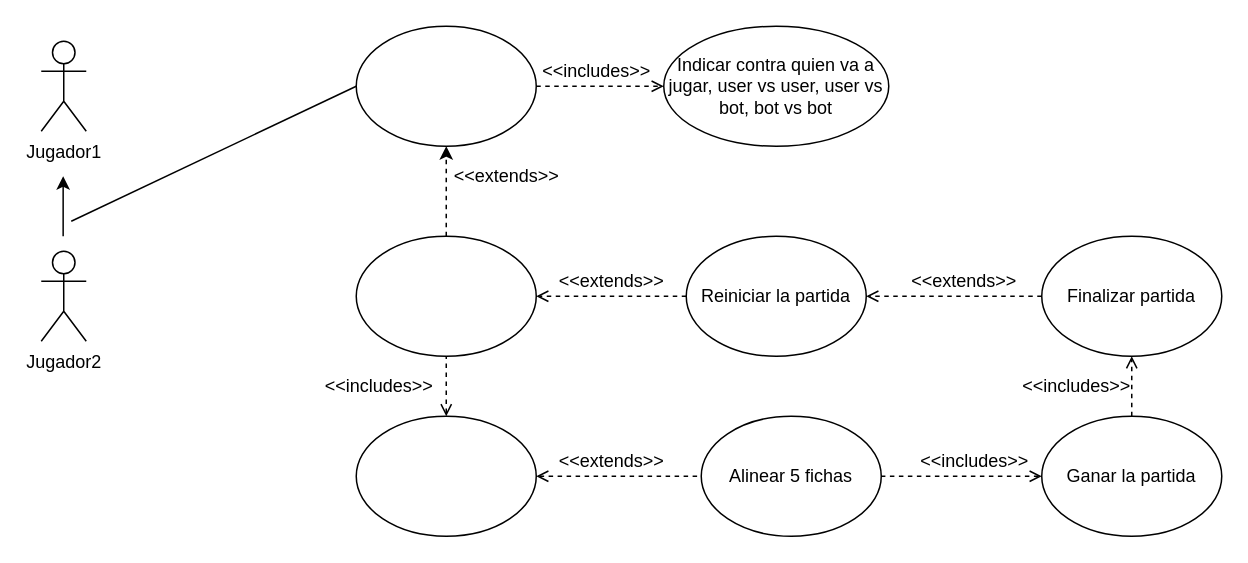
This 1248x563 diagram has some shape labels left out. Each missing label, with the centre of its shape:
Iniciar partida: [445,85]
Poner ficha: [445,475]
Realizar un movimiento por turnos: [445,295]
